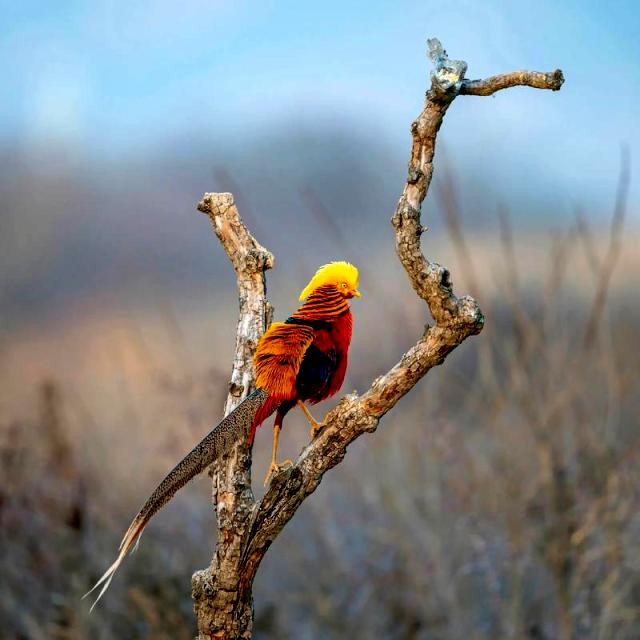Chrysolophus pictus feather: (80, 389, 284, 613)
